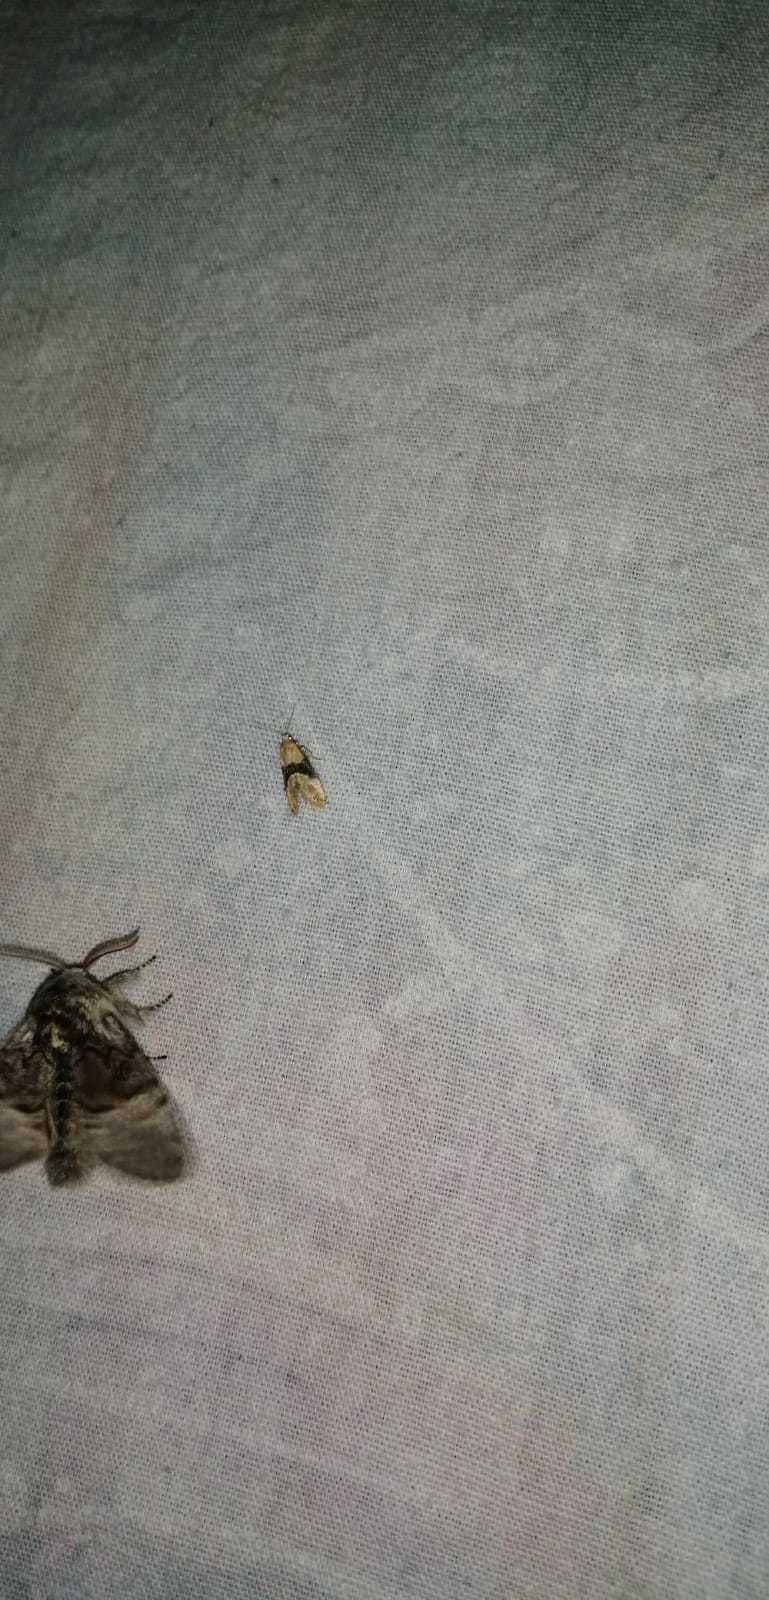Eupoecilia Ambiguella: (254, 702, 327, 816)
